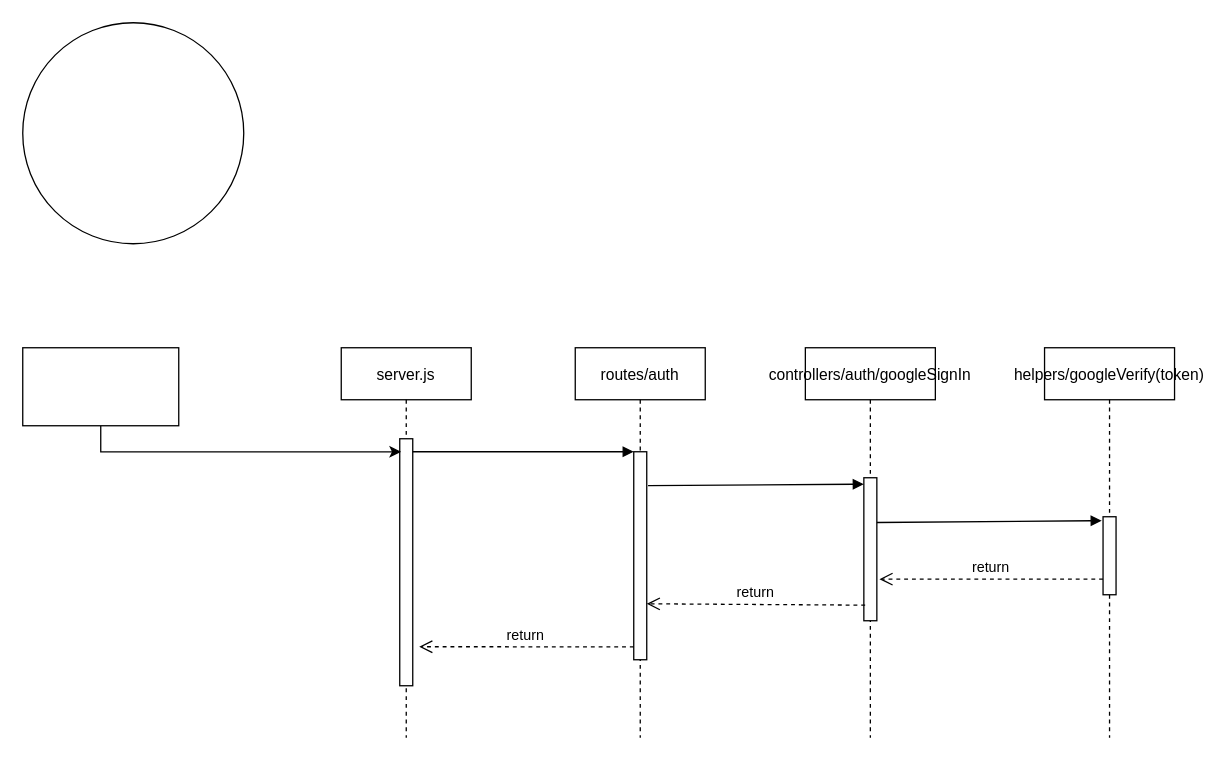
Some shapes in this 1227 by 761 pixel diagram are drawn without their labels. Here are the shapes that lost their labels. From the top down, the centre of each, then its label:
At (132,132): "Google Login".
At (100,386): "index.html".
